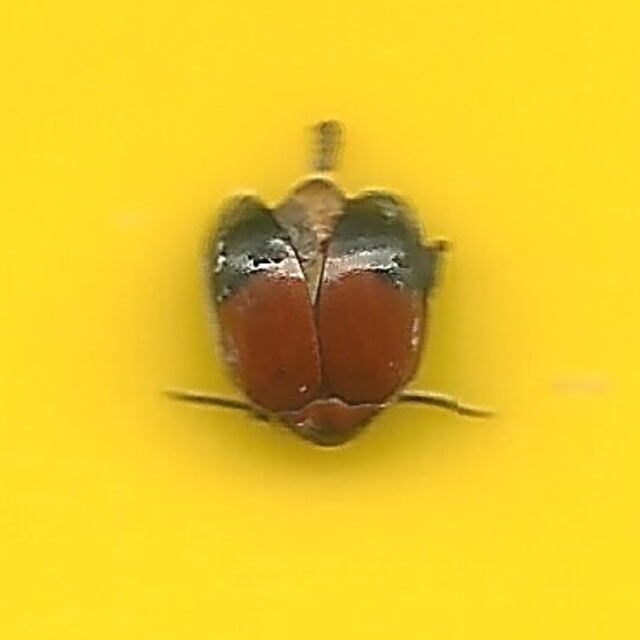Coleoptera: (173, 162, 467, 478)
